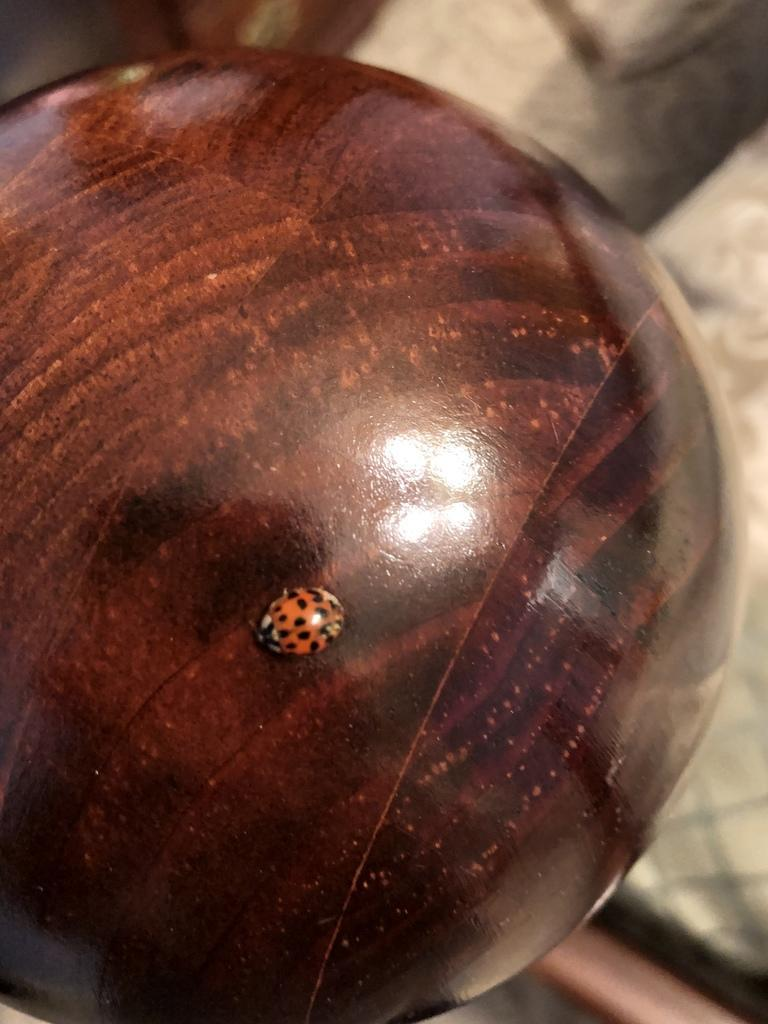ladybug: (247, 582, 352, 663)
